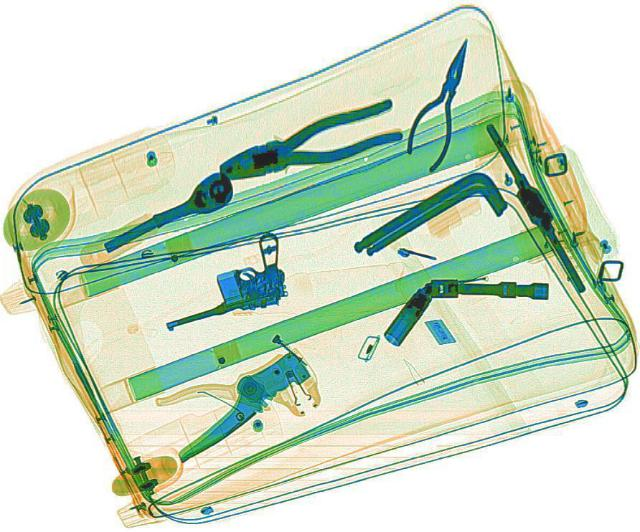Gun: (135, 228, 307, 334)
Pliers: (206, 98, 408, 189), (398, 32, 484, 171)
